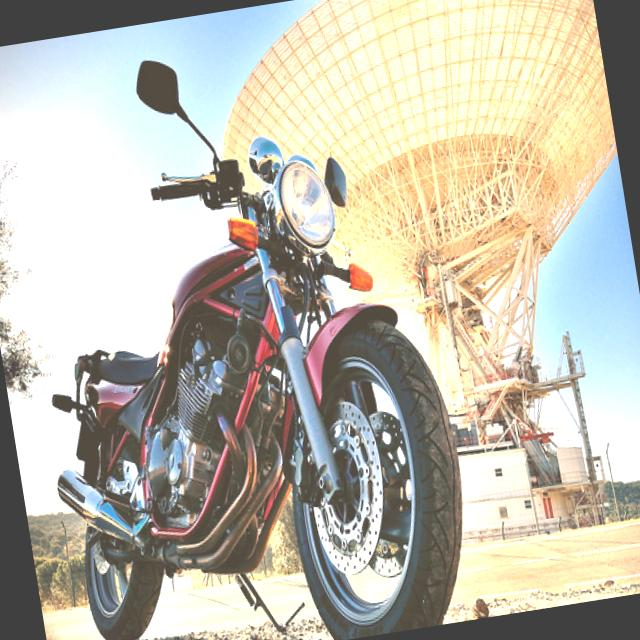Vehicle: (0, 21, 482, 640)
